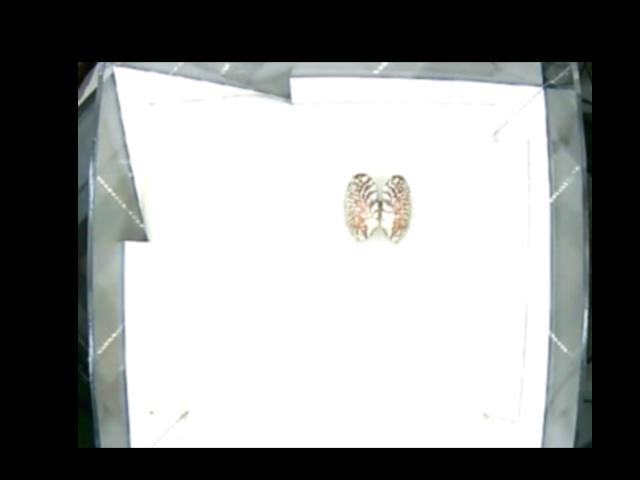Shell: (343, 172, 414, 246)
